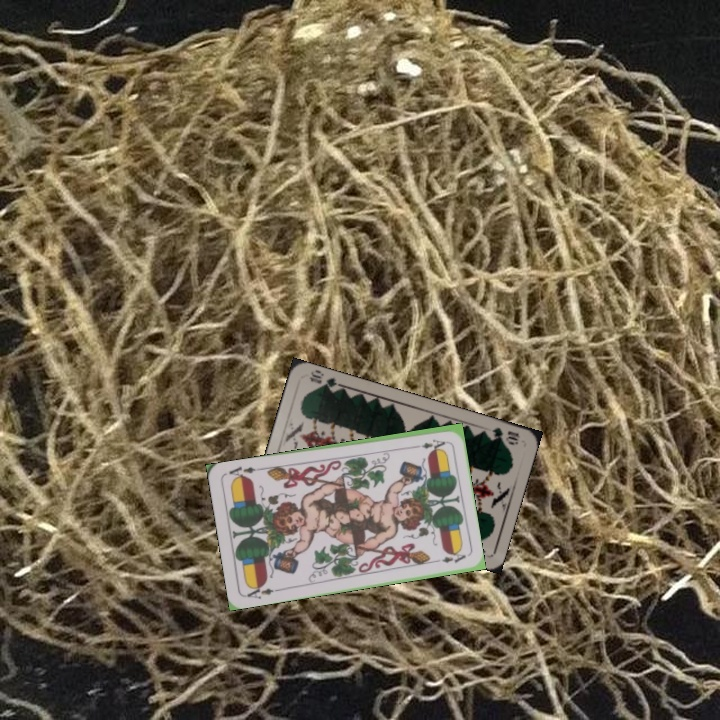EA: (242, 580, 282, 601), (408, 435, 448, 451)
G10: (488, 423, 523, 447)
